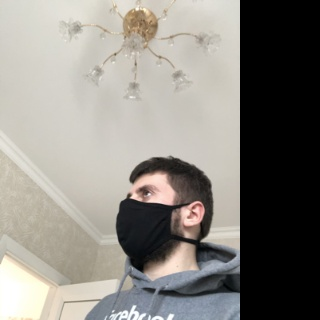with_mask: (116, 182, 178, 262)
